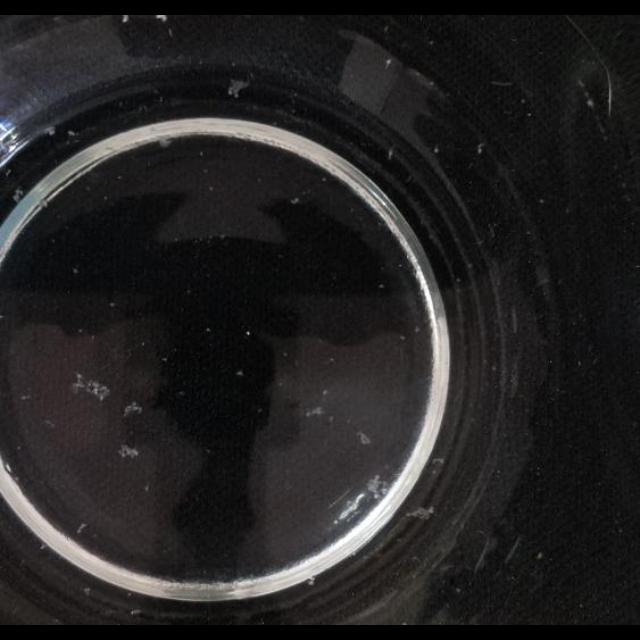Fibre: (70, 372, 111, 402), (406, 499, 440, 528), (362, 472, 392, 502), (227, 78, 250, 98), (118, 444, 140, 460), (123, 402, 143, 418), (304, 406, 326, 418), (356, 430, 370, 446), (13, 188, 25, 204), (156, 15, 168, 23)
microbeads: (76, 522, 88, 534), (44, 419, 56, 429), (68, 128, 78, 138), (20, 394, 32, 401), (477, 144, 485, 154), (38, 543, 48, 551), (384, 58, 392, 68), (83, 587, 91, 595), (328, 356, 336, 364), (536, 552, 544, 560), (204, 326, 212, 334), (306, 578, 314, 586), (236, 369, 244, 376), (292, 198, 300, 205), (414, 325, 421, 333), (434, 146, 441, 154), (144, 483, 150, 492), (399, 334, 406, 341), (109, 302, 117, 308), (322, 389, 328, 397), (72, 267, 78, 275), (538, 198, 546, 204), (208, 185, 214, 192), (378, 283, 384, 289), (162, 356, 168, 362), (244, 330, 250, 336)
